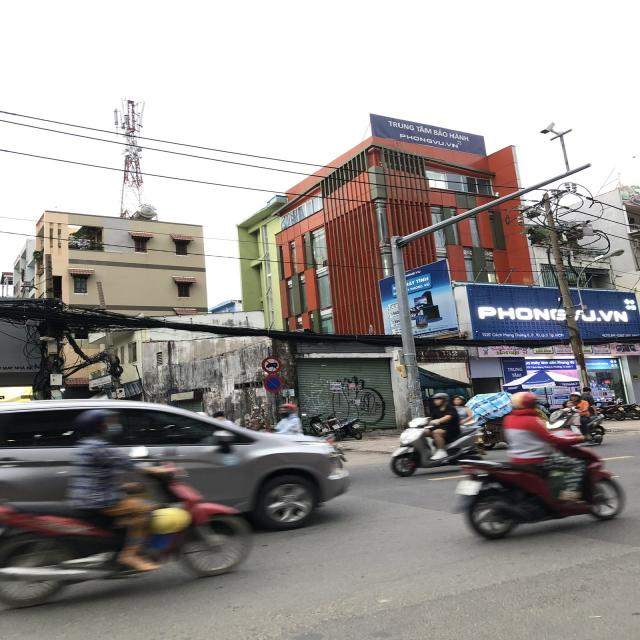Bien bao cam do xe: (262, 375, 287, 393)
Bien bao cam xe oto tai: (260, 355, 284, 374)
